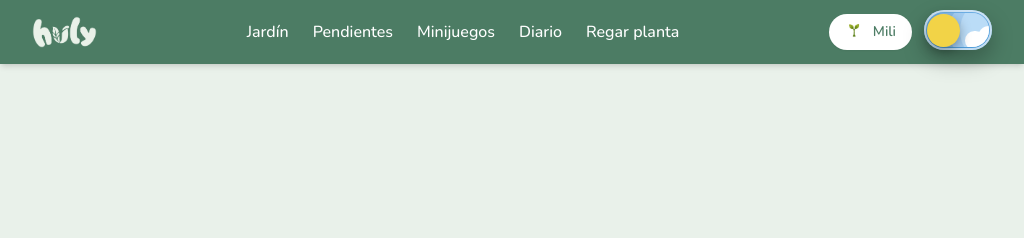
Test: Navbar › usuario logueado › abre el dropdown al hacer click en el botón de usuario
Click the button "Mili" at point(870, 32), box x1=829 y1=14 x2=912 y2=50
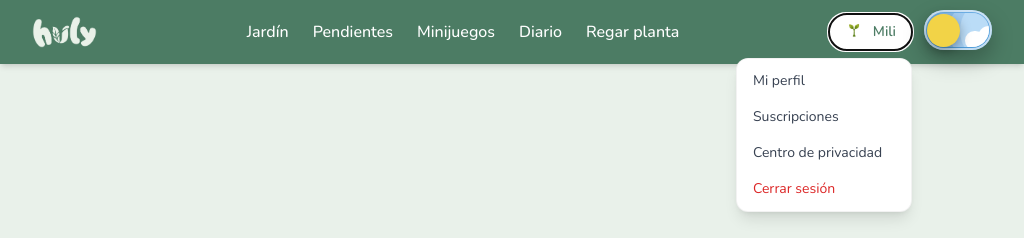
Check: the menu item "Mi perfil" is shown, box x1=753 y1=71 x2=805 y2=90
Check: the menu item "Cerrar sesión" is shown, box x1=737 y1=171 x2=911 y2=207
